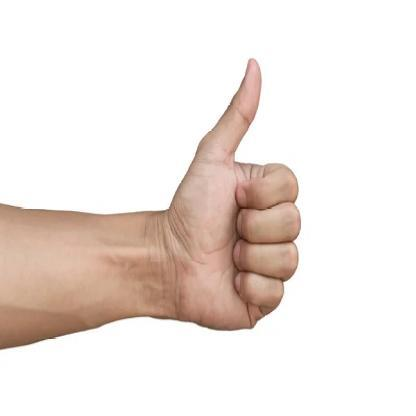thumb_up: (167, 52, 301, 334)
